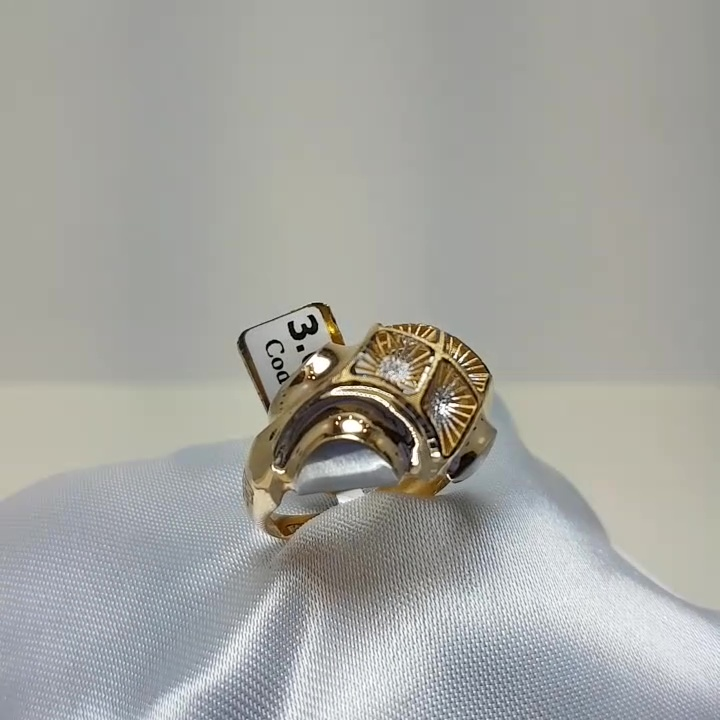Ring 2: (211, 295, 519, 561)
